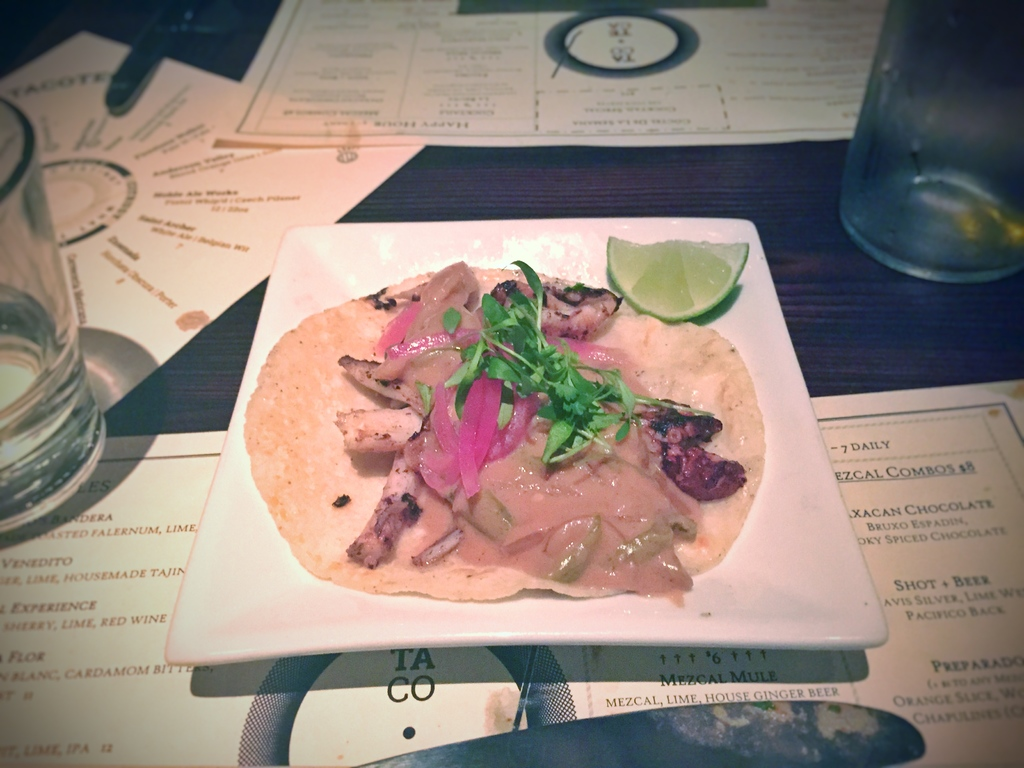taco: (234, 235, 787, 625)
